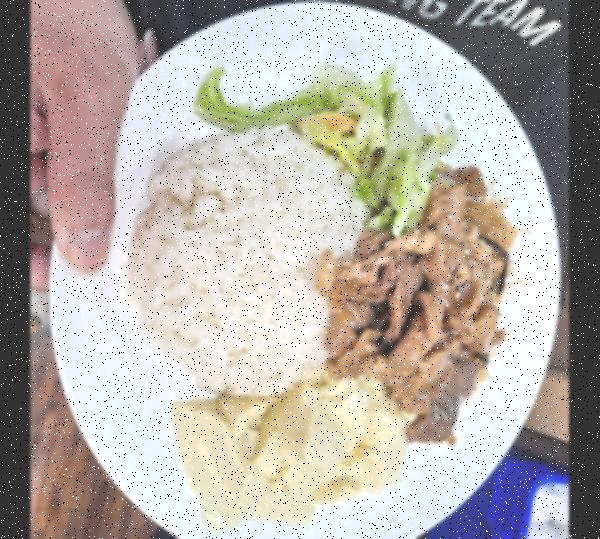plate: (44, 0, 563, 539)
sauteed pork: (330, 197, 516, 447)
side dish: (196, 50, 458, 217), (176, 380, 416, 532)
white rice: (122, 132, 373, 390)
